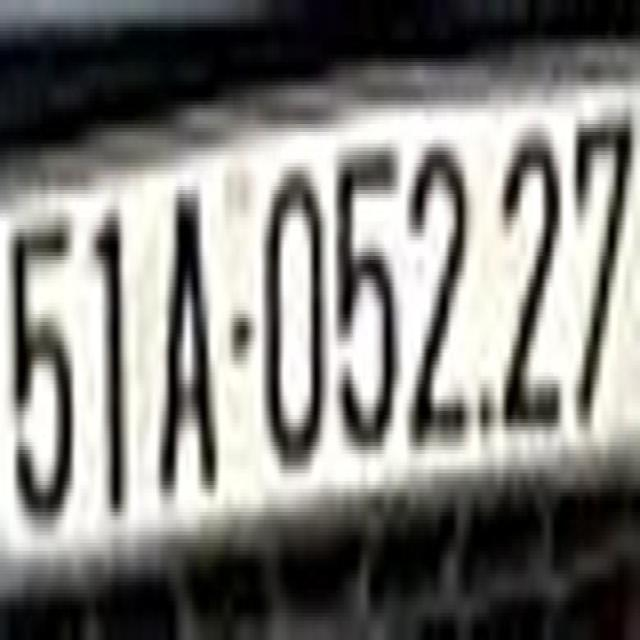0: (260, 149, 324, 479)
1: (91, 192, 131, 526)
2: (500, 122, 562, 436), (407, 130, 468, 448)
5: (334, 122, 400, 460), (11, 202, 77, 531)
7: (573, 97, 635, 431)
A: (156, 167, 221, 504)
